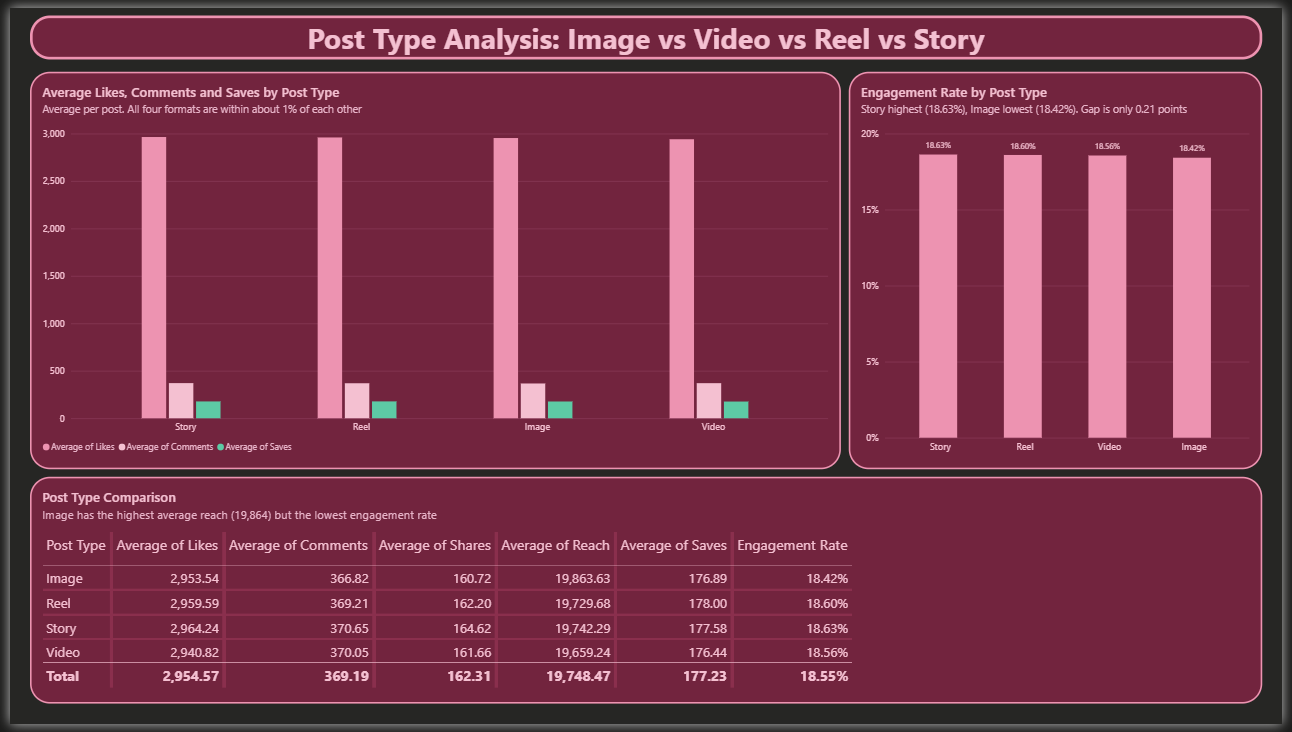

The dashboard page shown, as its layout file describes it:
{"tool":"powerbi","page":{"name":"Post Type Analysis","canvas":[1920,1080],"ordinal":2},"visuals":[{"type":"clusteredColumnChart","title":"Average Likes, Comments and Saves by Post Type","fields":{"Category":["Posts.Post Type"],"Y":["Avg(Posts.Likes)","Avg(Posts.Comments)","Avg(Posts.Saves)"]},"box":[30,96,1224,600],"z":0},{"type":"tableEx","title":"Post Type Comparison","fields":{"Values":["Posts.Post Type","Avg(Posts.Likes)","Avg(Posts.Comments)","Avg(Posts.Shares)","Avg(Posts.Reach)","Avg(Posts.Saves)","Posts.Engagement Rate"]},"box":[30,708,1860,342],"z":1000},{"type":"clusteredColumnChart","title":"Engagement Rate by Post Type","fields":{"Category":["Posts.Post Type"],"Y":["Posts.Engagement Rate"]},"box":[1266,96,624,600],"z":2000},{"type":"textbox","box":[30,12,1860,66],"z":3000}]}

Visuals, with their boxes in screenshot pixels (x1, y1, x2, y2), scaled from the page's 1920x1080 canvas onto the 1292x732 screenshot:
"Average Likes, Comments and Saves by Post Type" clusteredColumnChart: [x1=20, y1=65, x2=844, y2=472]
"Post Type Comparison" tableEx: [x1=20, y1=480, x2=1272, y2=712]
"Engagement Rate by Post Type" clusteredColumnChart: [x1=852, y1=65, x2=1272, y2=472]
textbox: [x1=20, y1=8, x2=1272, y2=53]
